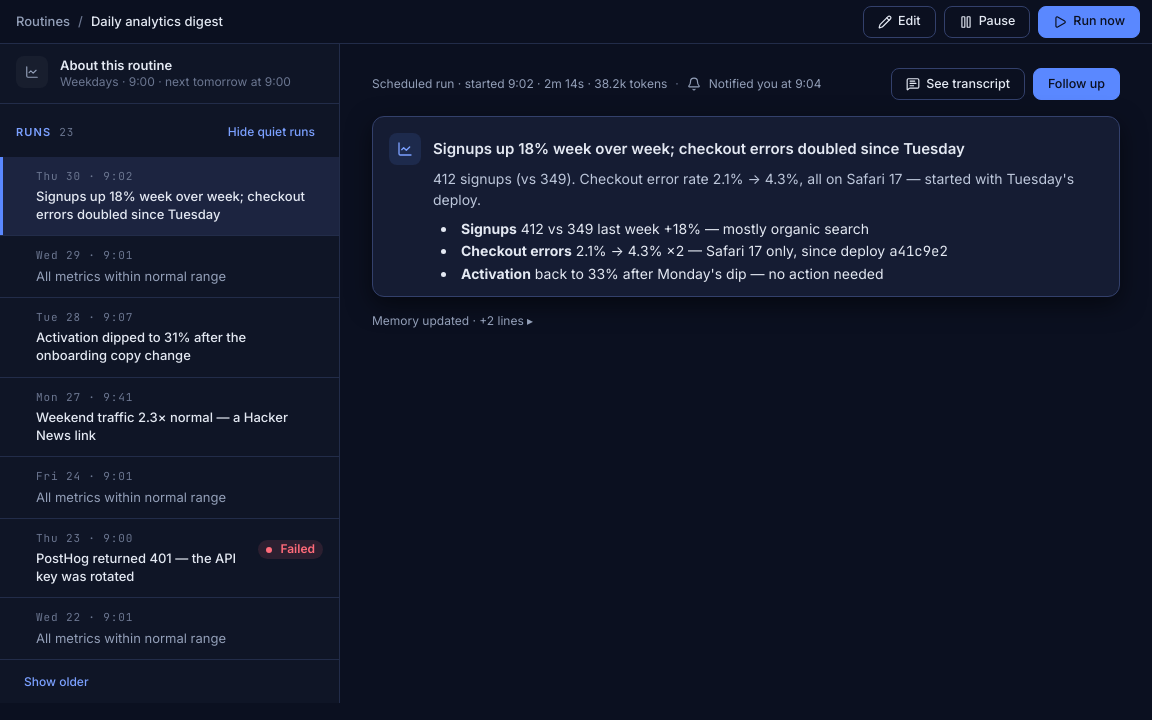
Test: the routine page — the run inbox › selecting another run shows it and reports the selection; a quiet run is muted and has no pill
The width and height of the screenshot is (1152, 720).
Check: the text with class "font-normal" below "Wed 29" is shown, box [36,268,226,284]
Click the option "Wed 29 · 9:01 All metrics within normal range" at (170, 267), box [0,236,339,298]
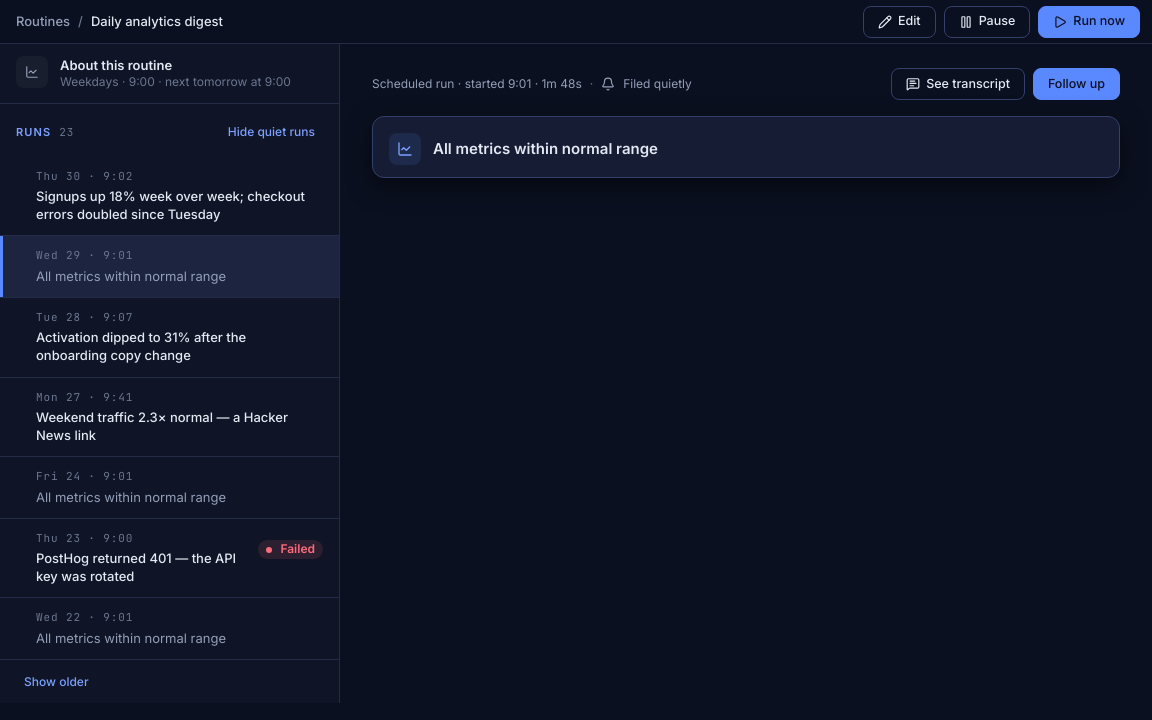
Check: the element with class "manta-routines-reading" shows "All metrics within normal range", box [433,139,658,158]
Check: the element with class "manta-routines-reading" shows "Filed quietly", box [623,76,692,91]
